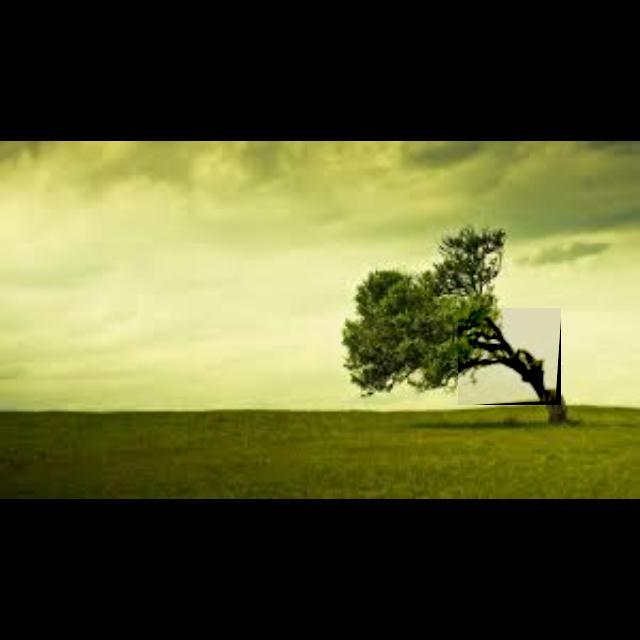fallen_tree: (458, 308, 562, 406)
